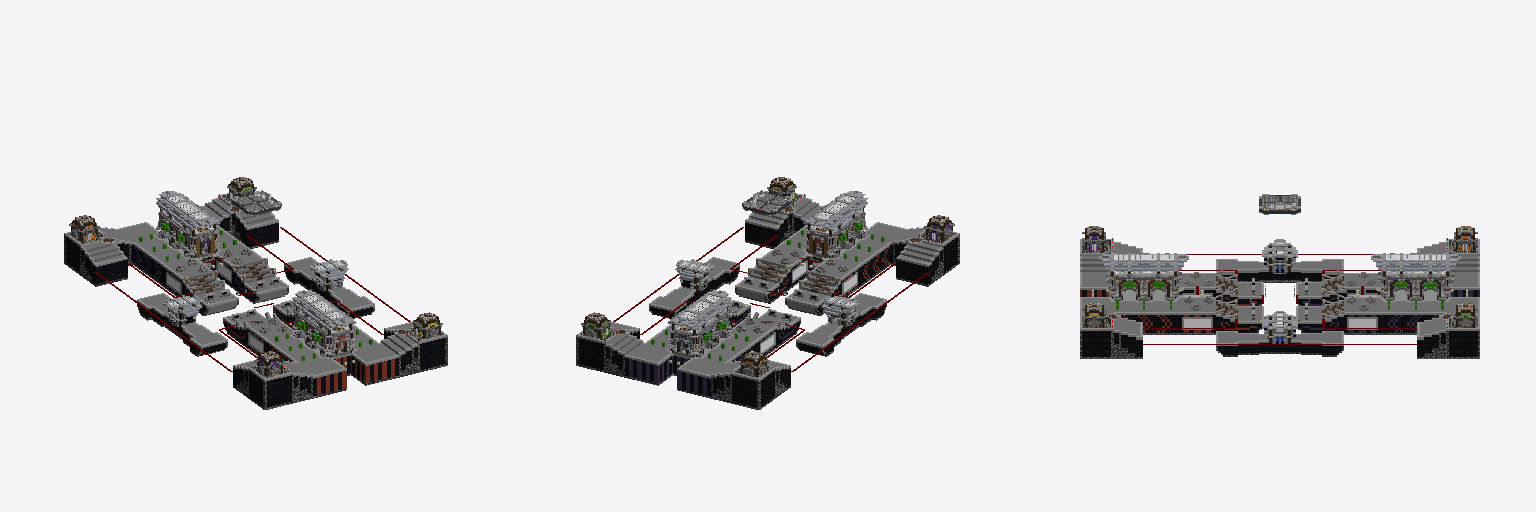
3 renders of one model, left to right at view 1: azimuth 30°, elevation 25°; view 2: azimuth 150°, elevation 25°; view 3: azimuth 270°, elevation 25°, orthographic.
Bounding box in the file's own units: 89 × 53.5 × 165.
48 materials, 25 textured.